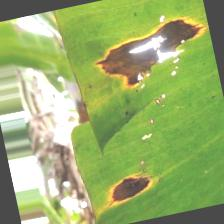cordana: (43, 0, 224, 224)
